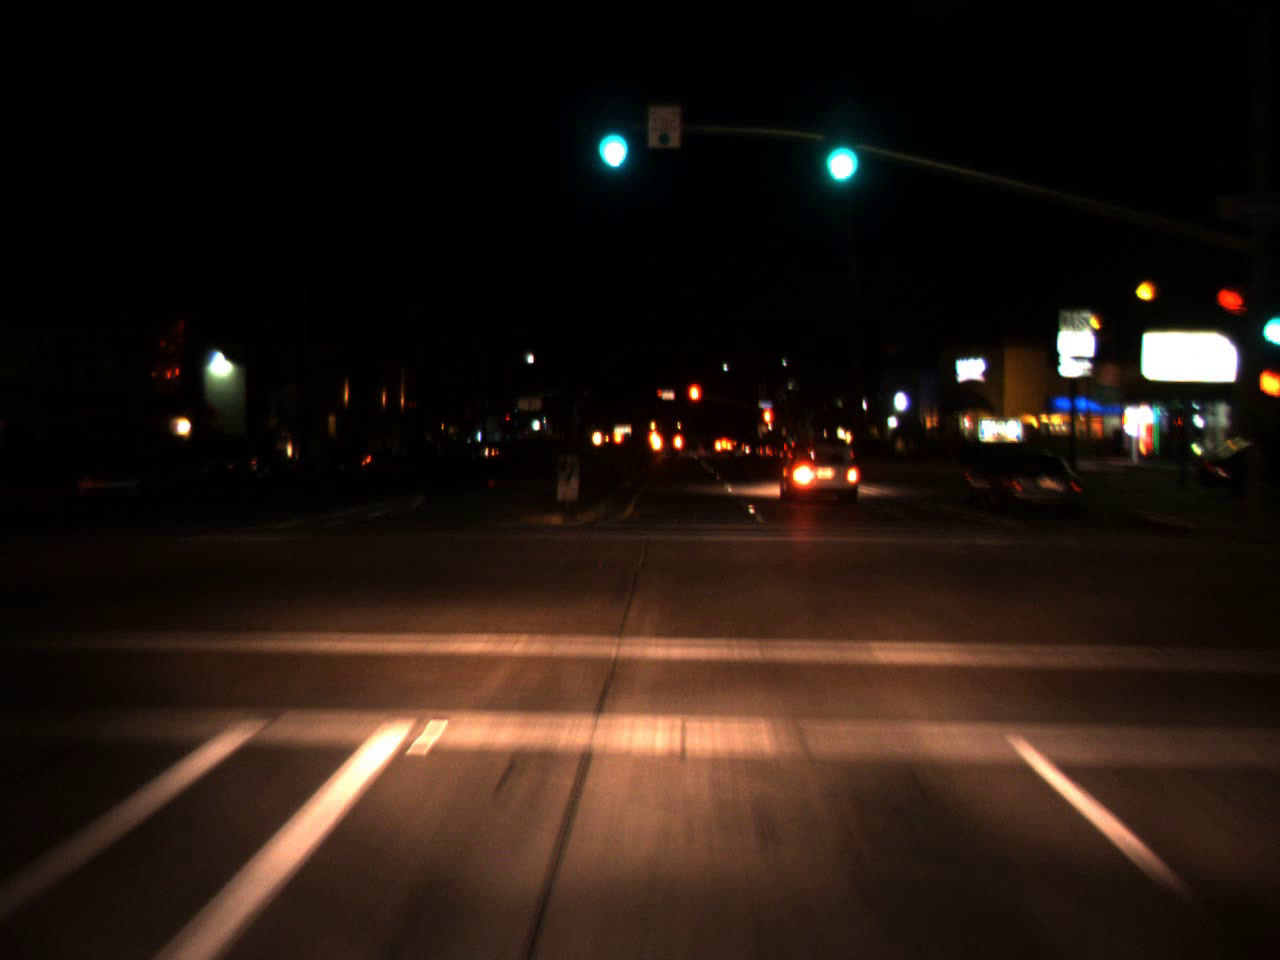go: (586, 94, 634, 178), (815, 107, 861, 194), (1259, 297, 1280, 351)
stop: (686, 380, 702, 423), (760, 404, 775, 447)
